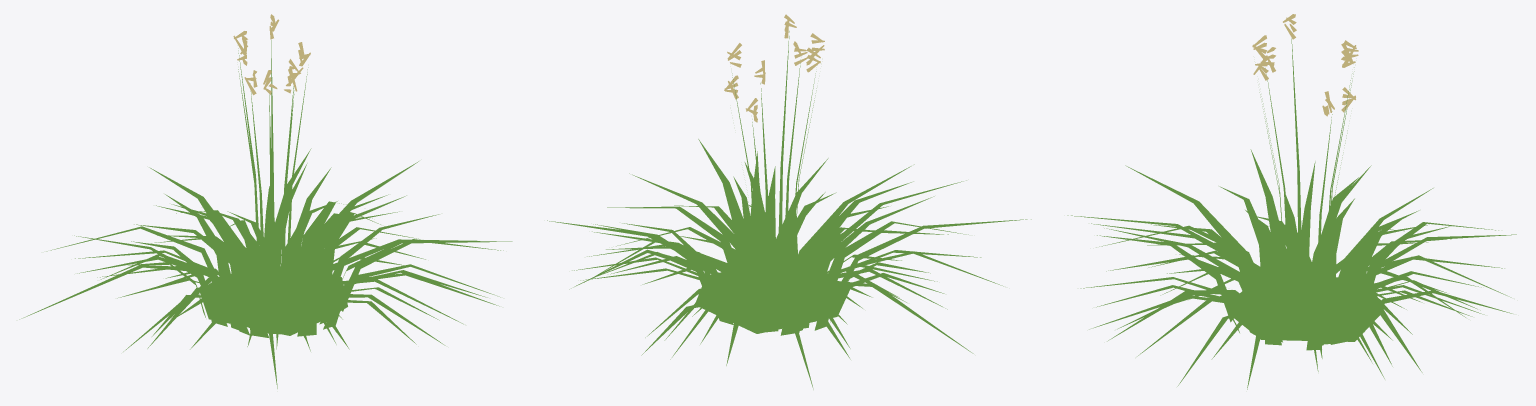
Rendered from Blender_TallFescue_1.glb.
The picture shows the model from 3 angles, left to right: view 1: azimuth 30°, elevation 25°; view 2: azimuth 150°, elevation 25°; view 3: azimuth 270°, elevation 25°; orthographic projection. The views are drawn at different scales.
Visible parts, largest first — view 1: Blender_TallFescue_1; view 2: Blender_TallFescue_1; view 3: Blender_TallFescue_1.
Boxes of the visible parts, x1,y1,x2,y2 form: Blender_TallFescue_1: (19,14,512,388); Blender_TallFescue_1: (547,14,1031,389); Blender_TallFescue_1: (1067,14,1516,389).
Bounding box in the file's own units: 1.69 × 1.04 × 1.49.
